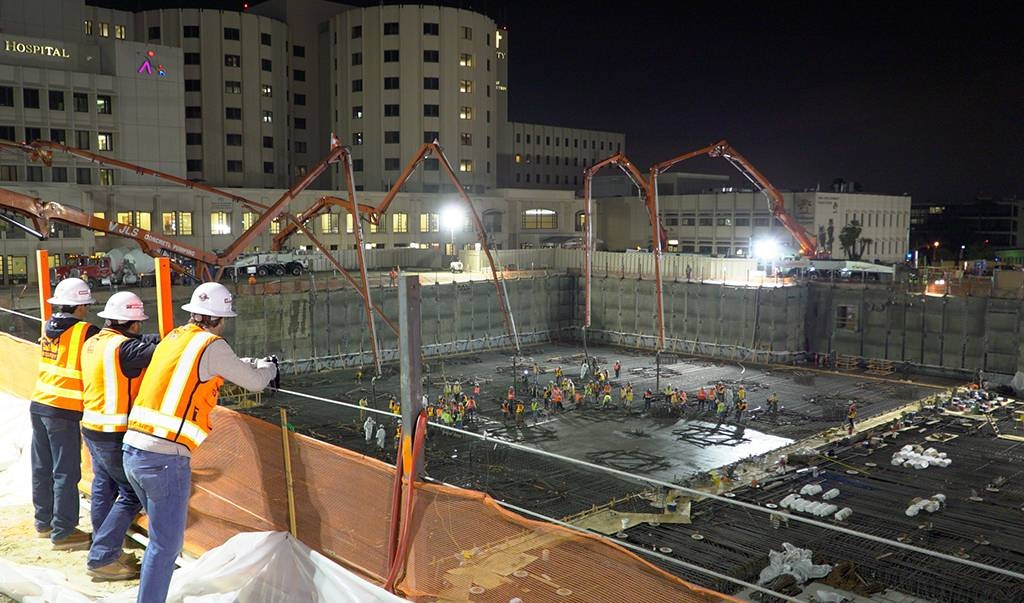white: (183, 281, 234, 336), (97, 289, 145, 337), (52, 278, 94, 318)
